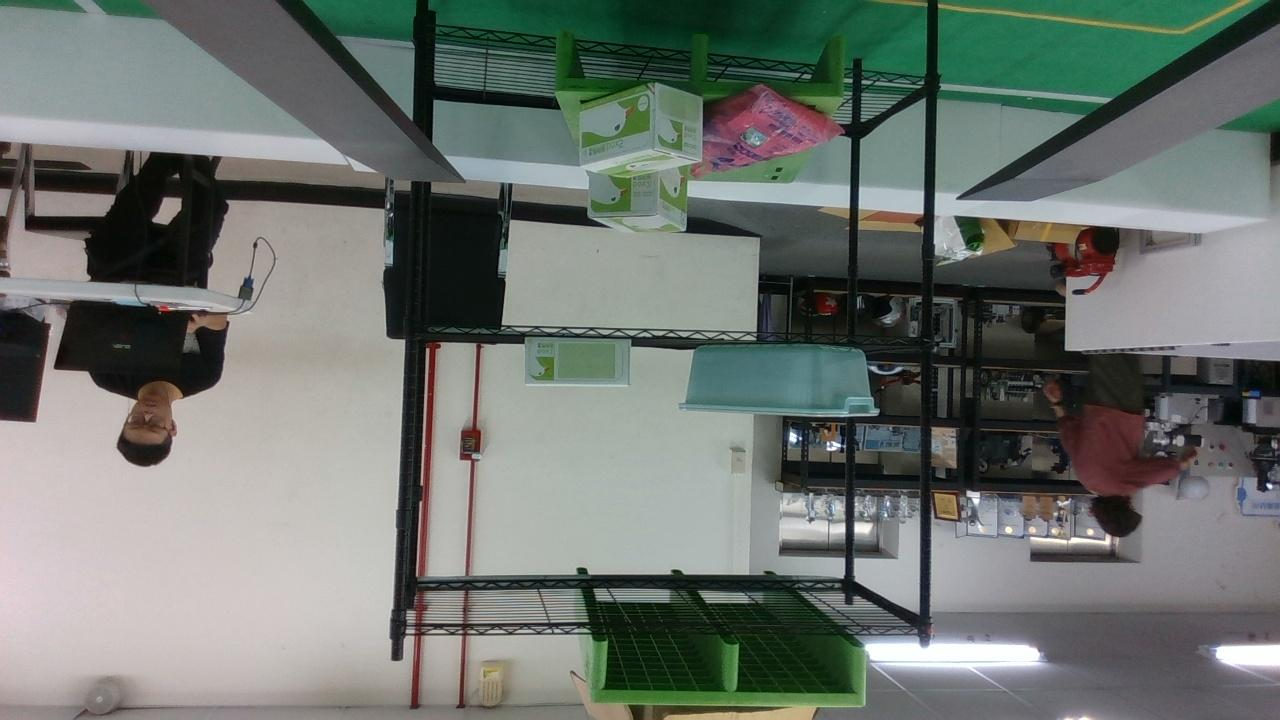Pallet: (554, 31, 850, 99), (591, 643, 866, 705)
